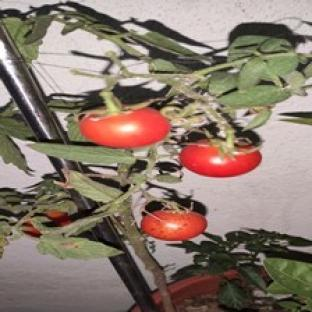Tomato: (80, 108, 171, 149), (180, 141, 261, 176), (141, 211, 207, 240), (45, 211, 71, 225), (23, 221, 41, 236)
